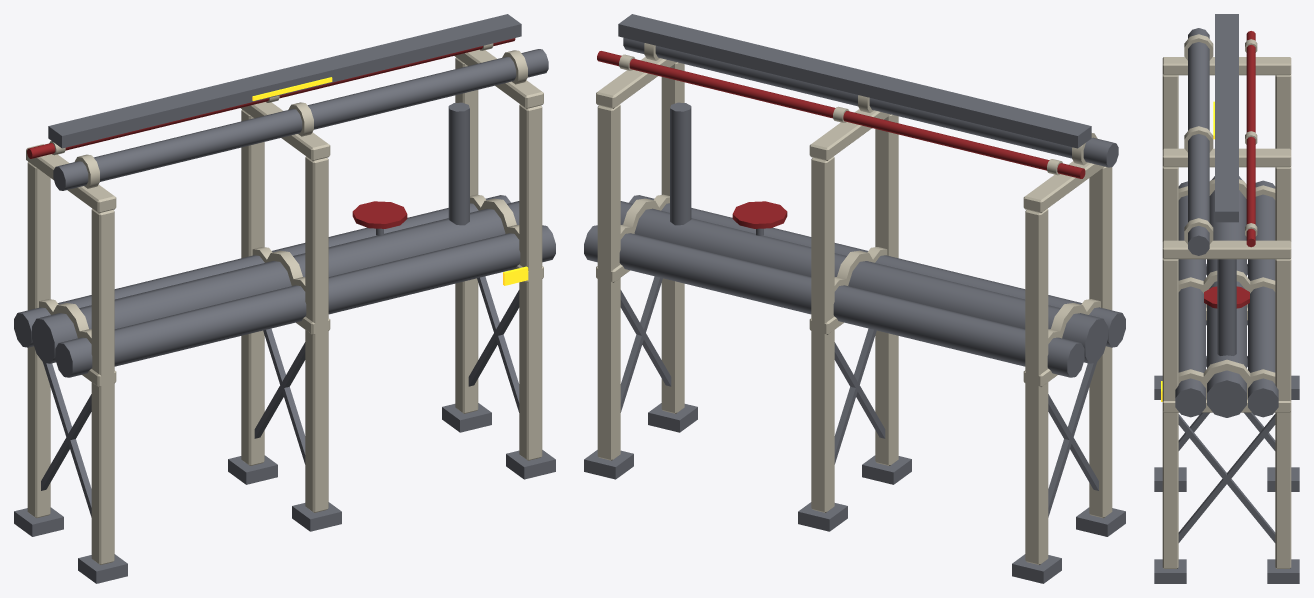
File: pipe_rack.glb
3 renders of one model, left to right at view 1: azimuth 30°, elevation 25°; view 2: azimuth 150°, elevation 25°; view 3: azimuth 270°, elevation 25°, orthographic. The views are drawn at different scales.
Visible parts, largest first — view 1: pipe_rack; view 2: pipe_rack; view 3: pipe_rack.
Part boxes in pixels (left/top/right/bottom): pipe_rack: left=14, top=14, right=555, bottom=583; pipe_rack: left=584, top=14, right=1125, bottom=583; pipe_rack: left=1154, top=14, right=1299, bottom=583.
Bounding box in the file's own units: 6.1 × 5.1 × 1.8.
